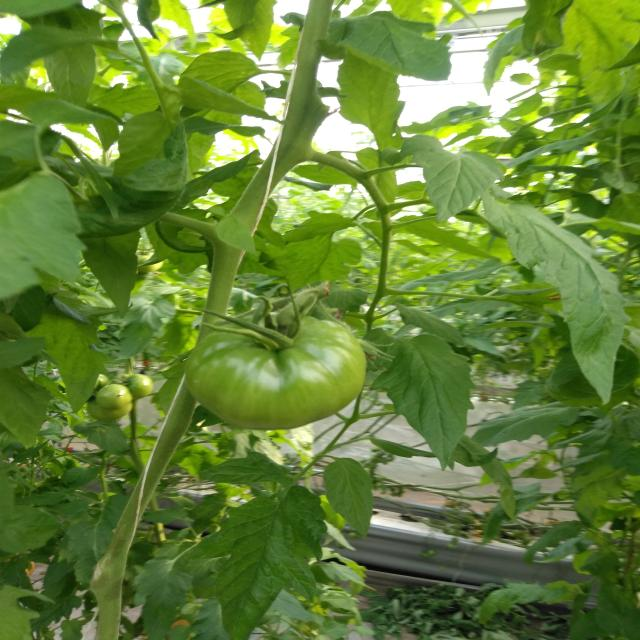yesil: (170, 237, 386, 440)
